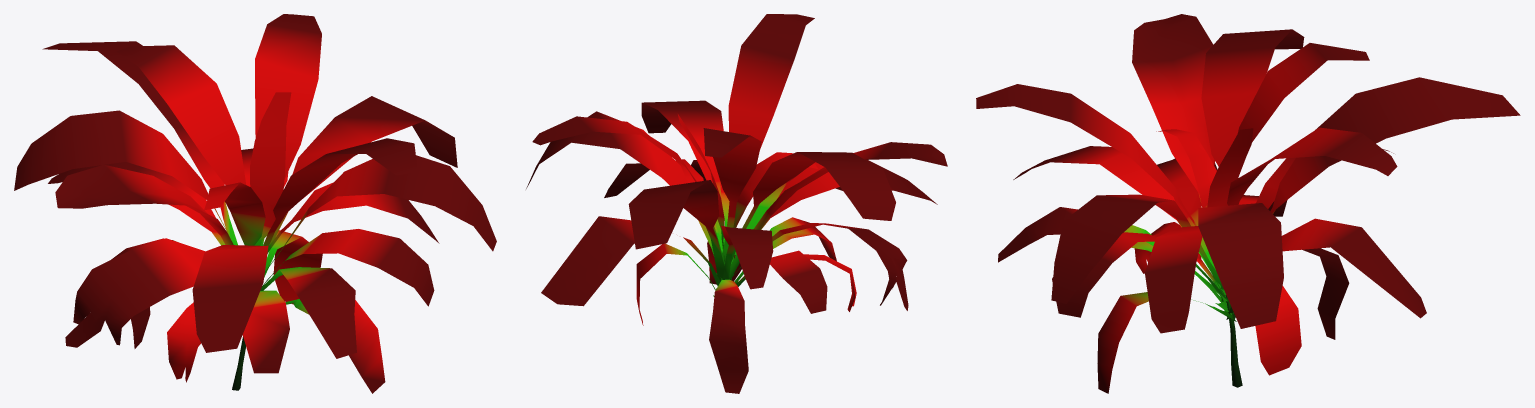
Rendered from Var7_LOD2.fbx.
The picture shows the model from 3 angles, left to right: view 1: azimuth 30°, elevation 25°; view 2: azimuth 150°, elevation 25°; view 3: azimuth 270°, elevation 25°; orthographic projection. The views are drawn at different scales.
Visible parts, largest first — view 1: _f8af_Var7_LOD2; view 2: _f8af_Var7_LOD2; view 3: _f8af_Var7_LOD2.
Boxes of the visible parts, x1,y1,x2,y2 form: _f8af_Var7_LOD2: (14,14,496,393); _f8af_Var7_LOD2: (526,14,947,393); _f8af_Var7_LOD2: (976,14,1520,393).
Size of the model in its own units: 42.18 by 29 by 45.19.
